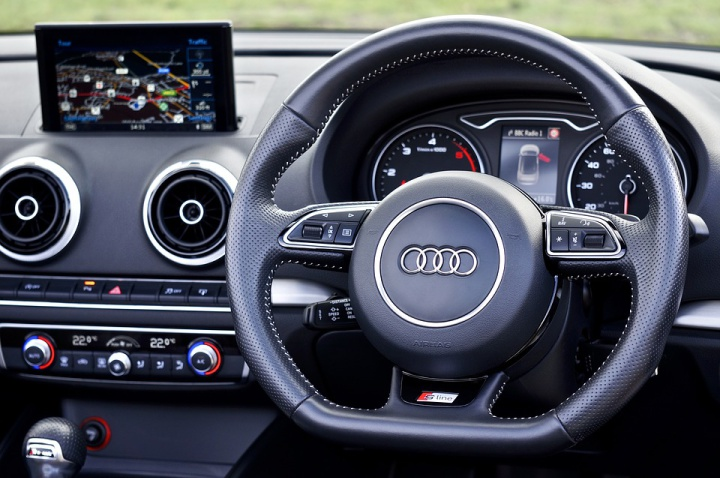audi: (388, 240, 487, 290)
